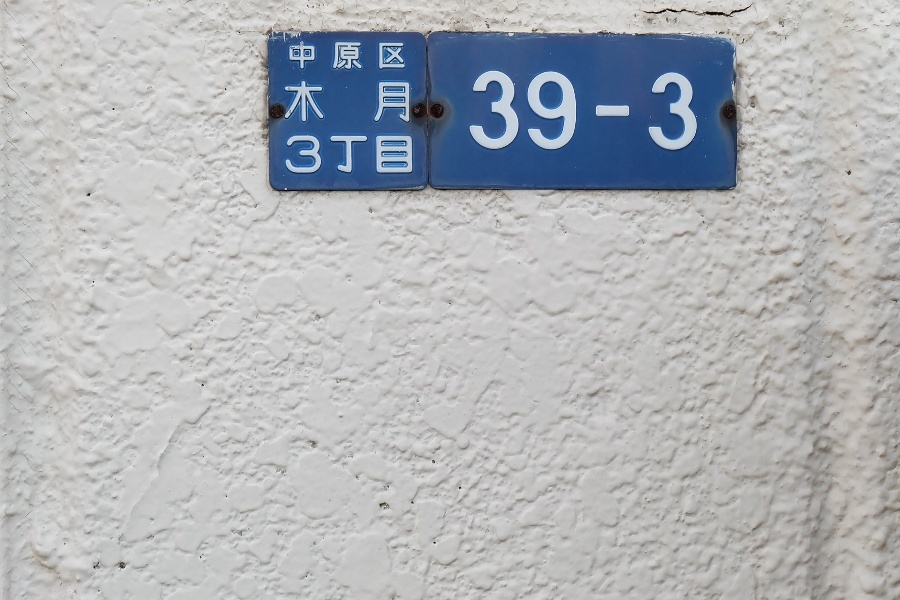text: (481, 66, 496, 156), (497, 66, 512, 156), (513, 66, 528, 156), (529, 66, 544, 156), (545, 66, 560, 156), (561, 66, 576, 156), (577, 66, 592, 156), (593, 66, 608, 156), (609, 66, 624, 156), (625, 66, 640, 156), (641, 66, 656, 156), (657, 66, 672, 156), (673, 66, 688, 156), (468, 66, 480, 156), (689, 66, 700, 156), (289, 77, 304, 127), (305, 77, 320, 127), (321, 77, 336, 127), (337, 77, 352, 127), (353, 77, 368, 127), (369, 77, 384, 127), (385, 77, 400, 127), (289, 132, 304, 177), (305, 132, 320, 177), (321, 132, 336, 177), (337, 132, 352, 177), (353, 132, 368, 177), (369, 132, 384, 177), (385, 132, 400, 177), (401, 132, 416, 177), (401, 77, 414, 127), (289, 38, 304, 73), (305, 38, 320, 73), (321, 38, 336, 73), (337, 38, 352, 73), (353, 38, 368, 73), (369, 38, 384, 73), (385, 38, 400, 73), (283, 77, 288, 127), (401, 38, 408, 73), (285, 132, 288, 177), (285, 38, 288, 73)
